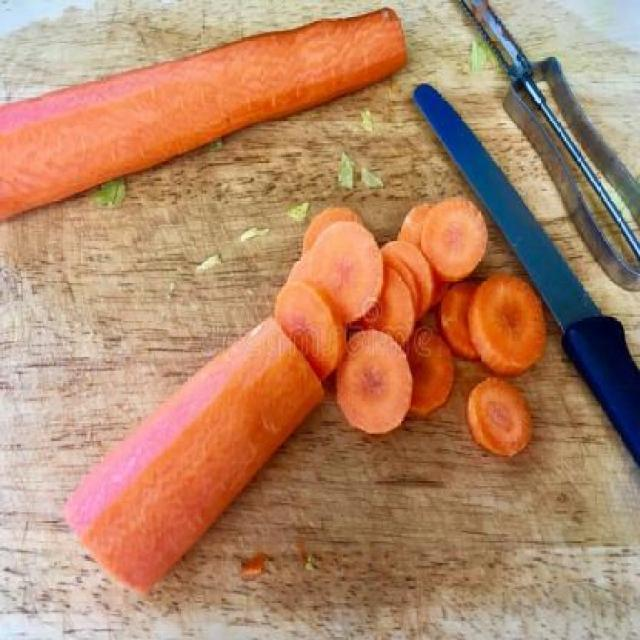carrot: (0, 4, 408, 230), (58, 313, 328, 601)
